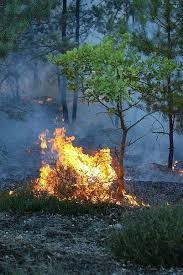fire: (32, 122, 146, 207)
